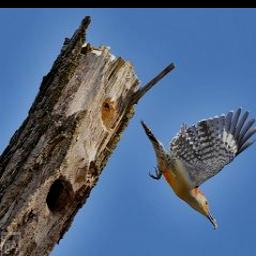Woodpecker: (140, 105, 256, 231)
